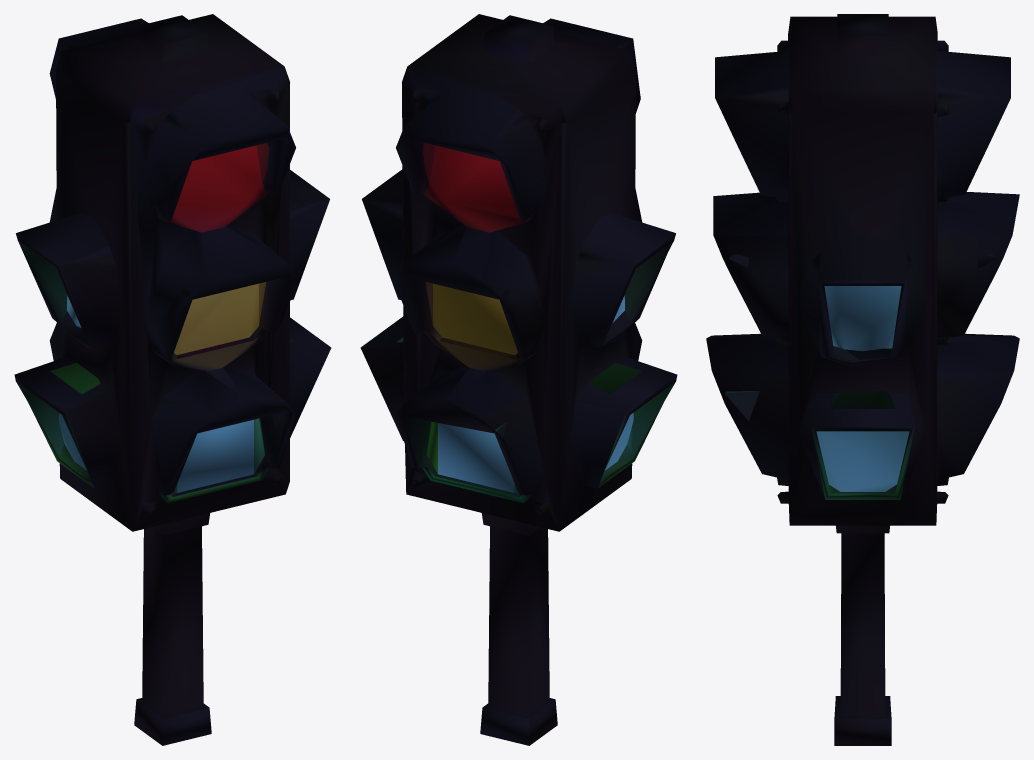
The model's file is model.progressive.glb.
3 renders of one model, left to right at view 1: azimuth 30°, elevation 25°; view 2: azimuth 150°, elevation 25°; view 3: azimuth 270°, elevation 25°, orthographic.
Parts seen in each view (by area): view 1: material; view 2: material; view 3: material.
Boxes of the visible parts, x1,y1,x2,y2 form: material: (14, 14, 331, 745); material: (360, 14, 677, 745); material: (706, 14, 1019, 745).
Bounding box in the file's own units: 0.7682 × 1.89 × 0.7565.
Materials: 1 (1 with a texture image).
